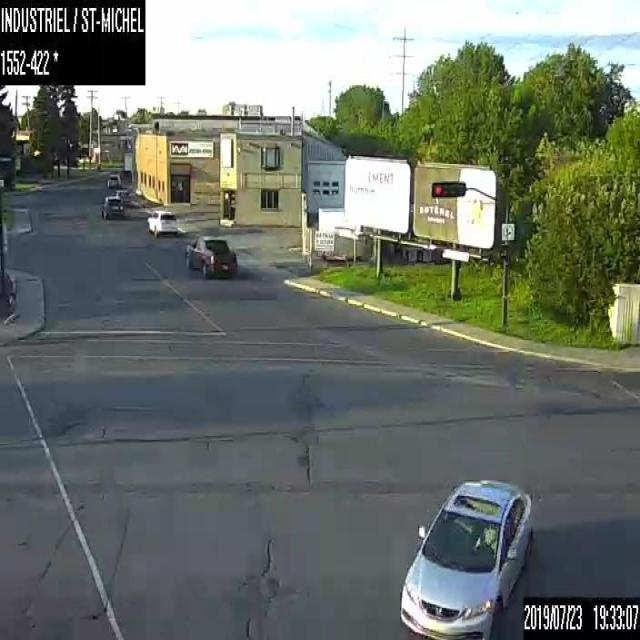vehicle: (397, 476, 534, 639), (184, 236, 236, 278), (146, 208, 177, 235), (100, 195, 123, 219), (106, 172, 119, 188)
